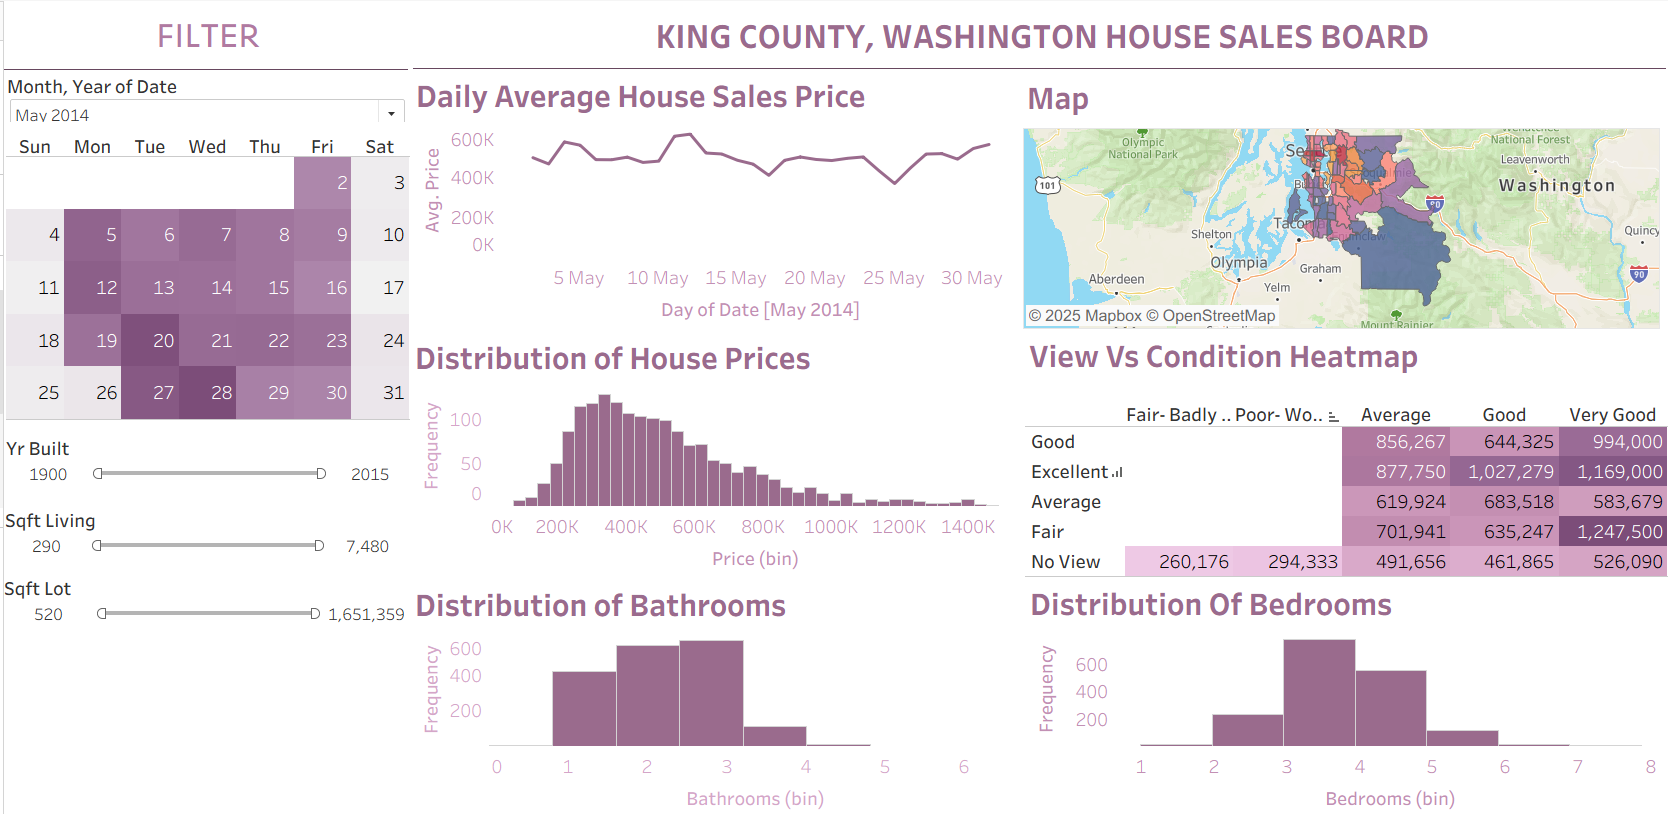

Layout of this report page (visuals, bound fields, positions):
{"tool":"tableau","page":{"name":"King County House Sales","canvas":[1000,1000],"units":"permille","ordinal":0},"visuals":[{"type":"text","box":[1.2,1.2,242.8,79.5]},{"type":"text","box":[242.5,2.4,762.5,78.2]},{"type":"blank","box":[245.6,81.9,753.1,1.2]},{"type":"blank","box":[0,83.1,242.8,1.2]},{"type":"worksheet","title":"Line Chart","mark":"Automatic","rows":["price"],"cols":["date"],"box":[245,84,365.3,315.7]},{"type":"worksheet","title":"Map","mark":"Automatic","box":[612.2,86.4,382.8,314.5]},{"type":"filter","title":"Calender","param":"[federated.17b38ld0tw98n318ajes41tktpct].[my:date:ok]","box":[1.9,88,241,59.9]},{"type":"worksheet","title":"Calender","mark":"Square","rows":["date"],"cols":["date"],"box":[1.2,165,242.8,347.2]},{"type":"worksheet","title":"Heatmap","mark":"Square","rows":["view"],"cols":["condition"],"box":[613.5,402.2,386.5,302.5]},{"type":"worksheet","title":"Histogram House Price","mark":"Automatic","rows":["price"],"cols":["Price (bin)"],"box":[244.4,404.6,367.2,300.1]},{"type":"filter","title":"Calender","param":"[federated.17b38ld0tw98n318ajes41tktpct].[none:yr_built:qk]","box":[1.2,530.6,244.4,81.9]},{"type":"filter","title":"Calender","param":"[federated.17b38ld0tw98n318ajes41tktpct].[none:sqft_living:qk]","box":[0.6,618.6,243.8,83.1]},{"type":"filter","title":"Calender","param":"[federated.17b38ld0tw98n318ajes41tktpct].[none:sqft_lot:qk]","box":[0,701.7,245.6,83.1]},{"type":"worksheet","title":"Histogram Bedroom","mark":"Automatic","rows":["bedrooms"],"cols":["Bedrooms (bin)"],"box":[614.1,705.9,385.3,291.7]},{"type":"worksheet","title":"Histogram Bathrooms","mark":"Automatic","rows":["bathrooms"],"cols":["Bathrooms (bin)"],"box":[244.7,706.6,367.4,290.9]}]}

Visuals, with their boxes on the dashboard's canvas, which has no fixed pixel size, in thousandths of its width and height (x1, y1, x2, y2). These are canvas units, not pixel positions in the 1668x814 screenshot, which may show the page scaled, cropped or inside an application window:
text: select_region(1, 1, 244, 81)
text: select_region(242, 2, 1005, 81)
blank: select_region(246, 82, 999, 83)
blank: select_region(0, 83, 243, 84)
"Line Chart" worksheet: select_region(245, 84, 610, 400)
"Map" worksheet: select_region(612, 86, 995, 401)
"Calender" filter: select_region(2, 88, 243, 148)
"Calender" worksheet (Square marks): select_region(1, 165, 244, 512)
"Heatmap" worksheet (Square marks): select_region(614, 402, 1000, 705)
"Histogram House Price" worksheet: select_region(244, 405, 612, 705)
"Calender" filter: select_region(1, 531, 246, 612)
"Calender" filter: select_region(1, 619, 244, 702)
"Calender" filter: select_region(0, 702, 246, 785)
"Histogram Bedroom" worksheet: select_region(614, 706, 999, 998)
"Histogram Bathrooms" worksheet: select_region(245, 707, 612, 998)
